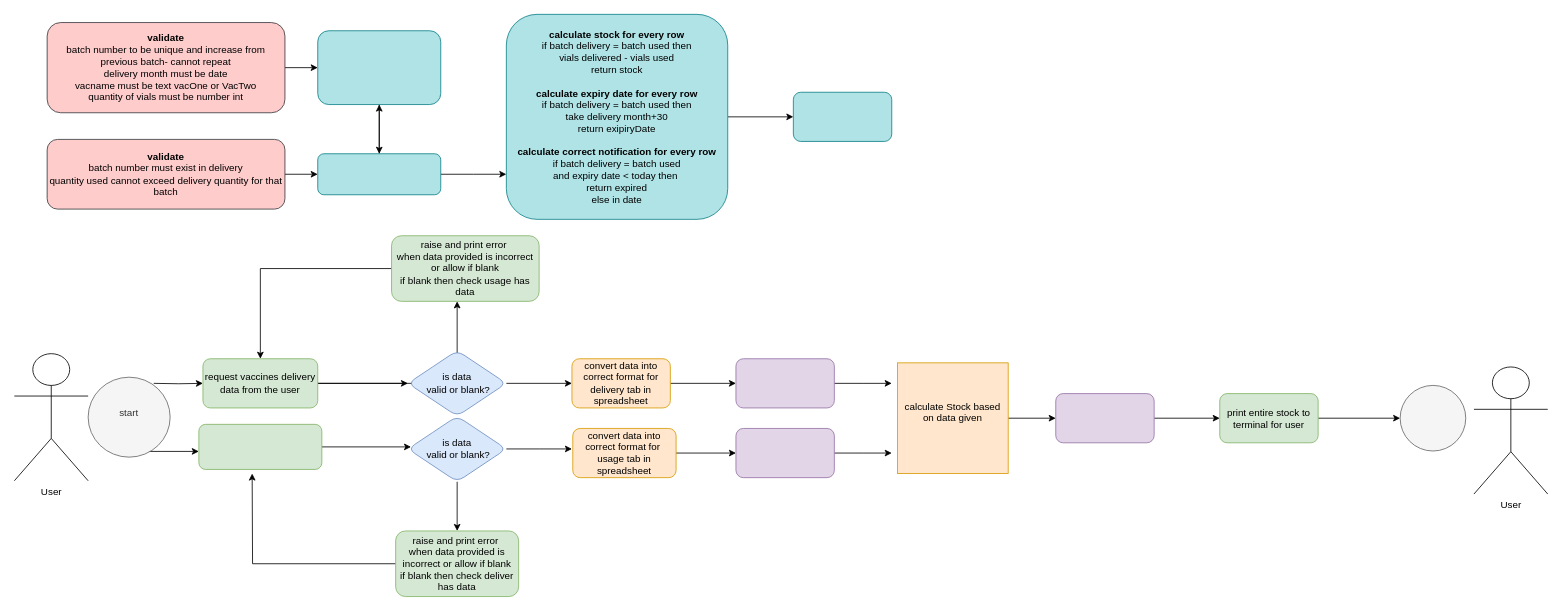
Some shapes in this 1562 by 611 pixel diagram are drawn without their labels. Here are the shapes that lost their labels. From the top down, the centre of each, then its label:
point 379,67: enter delivery data batch no delivery month vacname quantity of vials delivered
point 842,116: show entire stock table at the end
point 379,174: enter used date batch no quantity of vials used
point 784,383: update delivery tab in spreadsheet or if blank then do not update anything
point 1104,418: update stock tab in spreadsheet
point 1432,418: end program
point 260,446: request vaccines usage data from the user
point 784,453: update usage tab in spreadsheet or if blank then do not update anything
